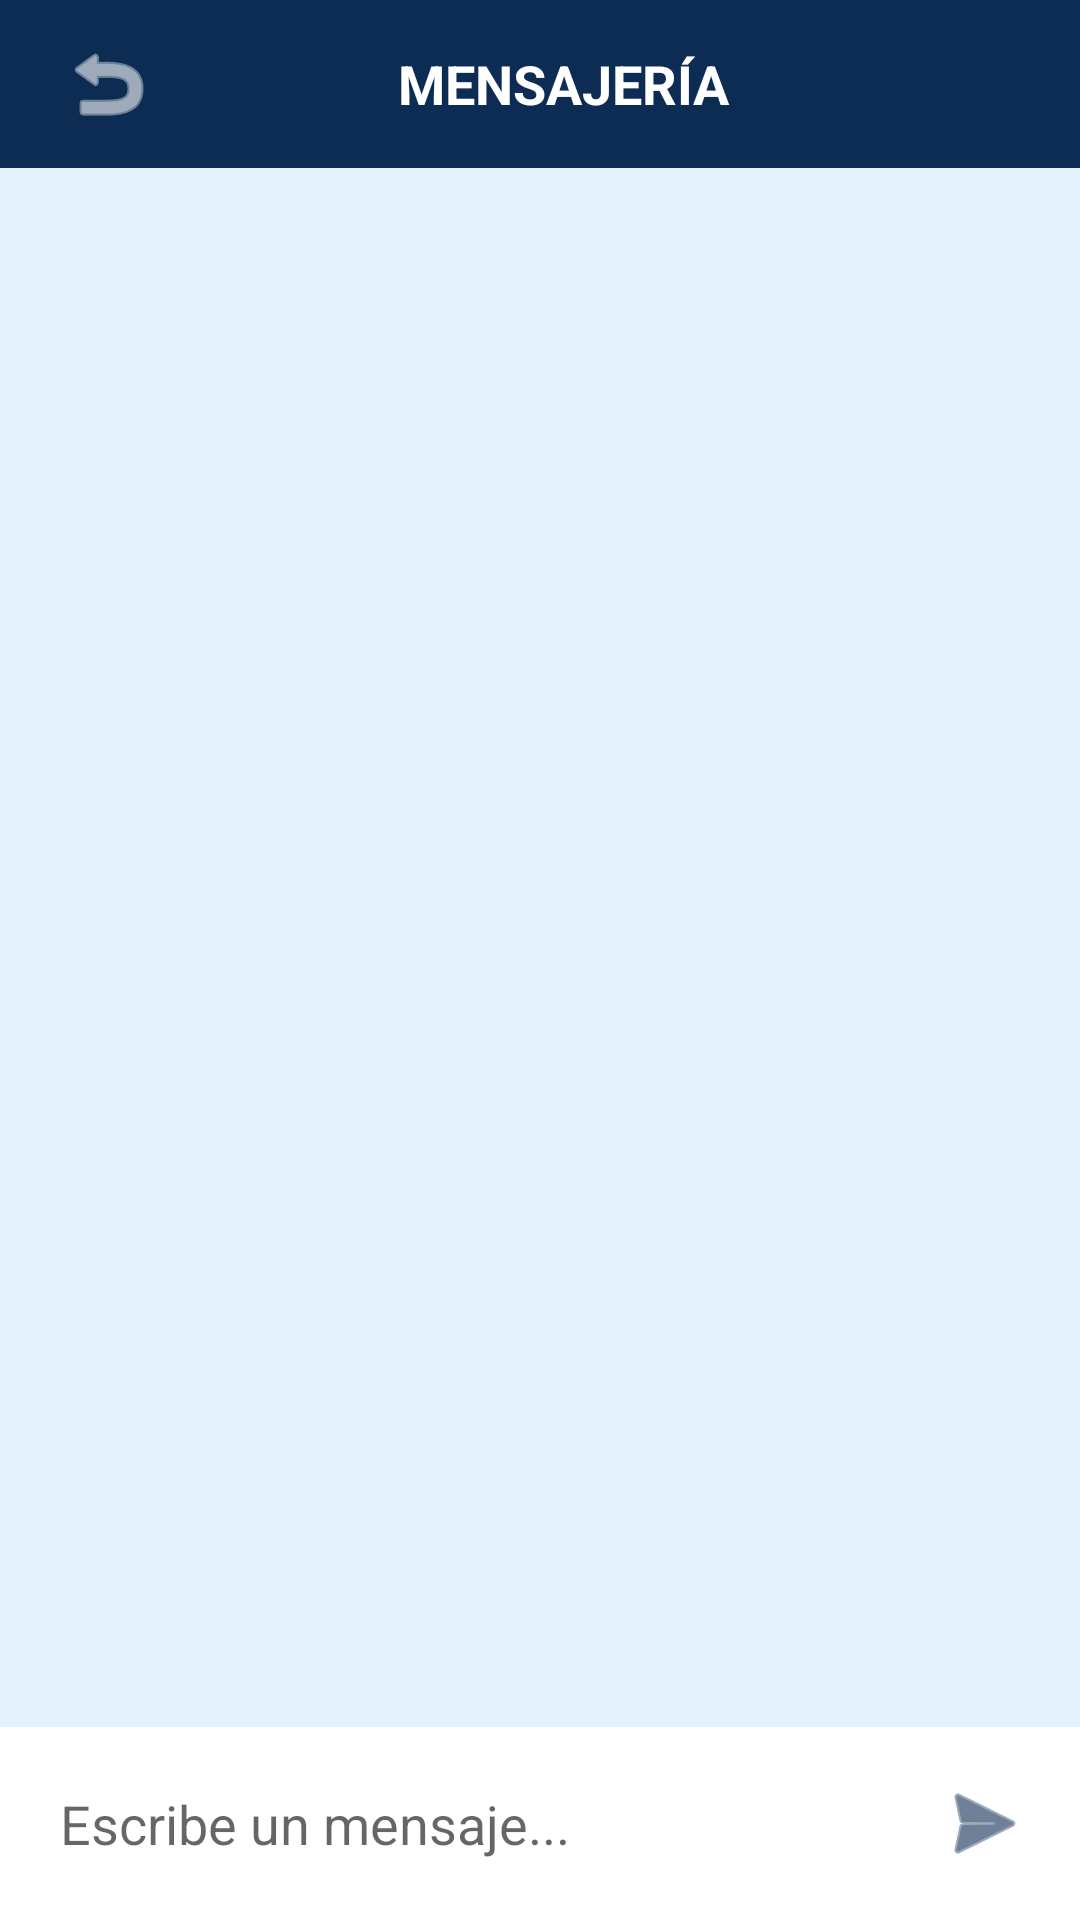

Icon click points for this 1080px x 1920px phone screenshot, format point (x, y):
revert: point (109, 84)
send: point (985, 1823)
